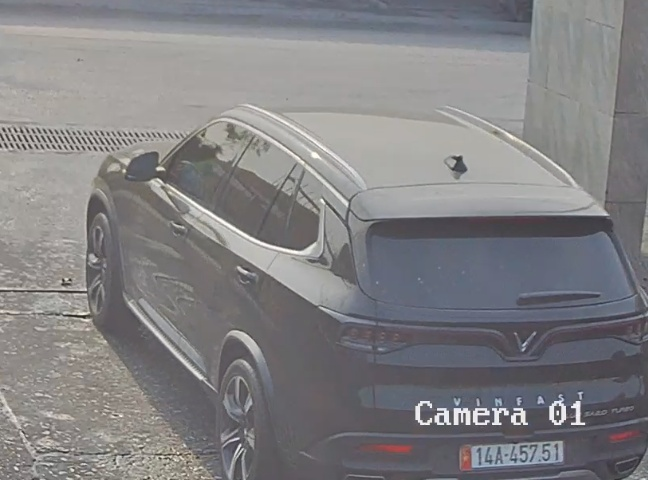vehicle plate: (457, 437, 571, 472)
